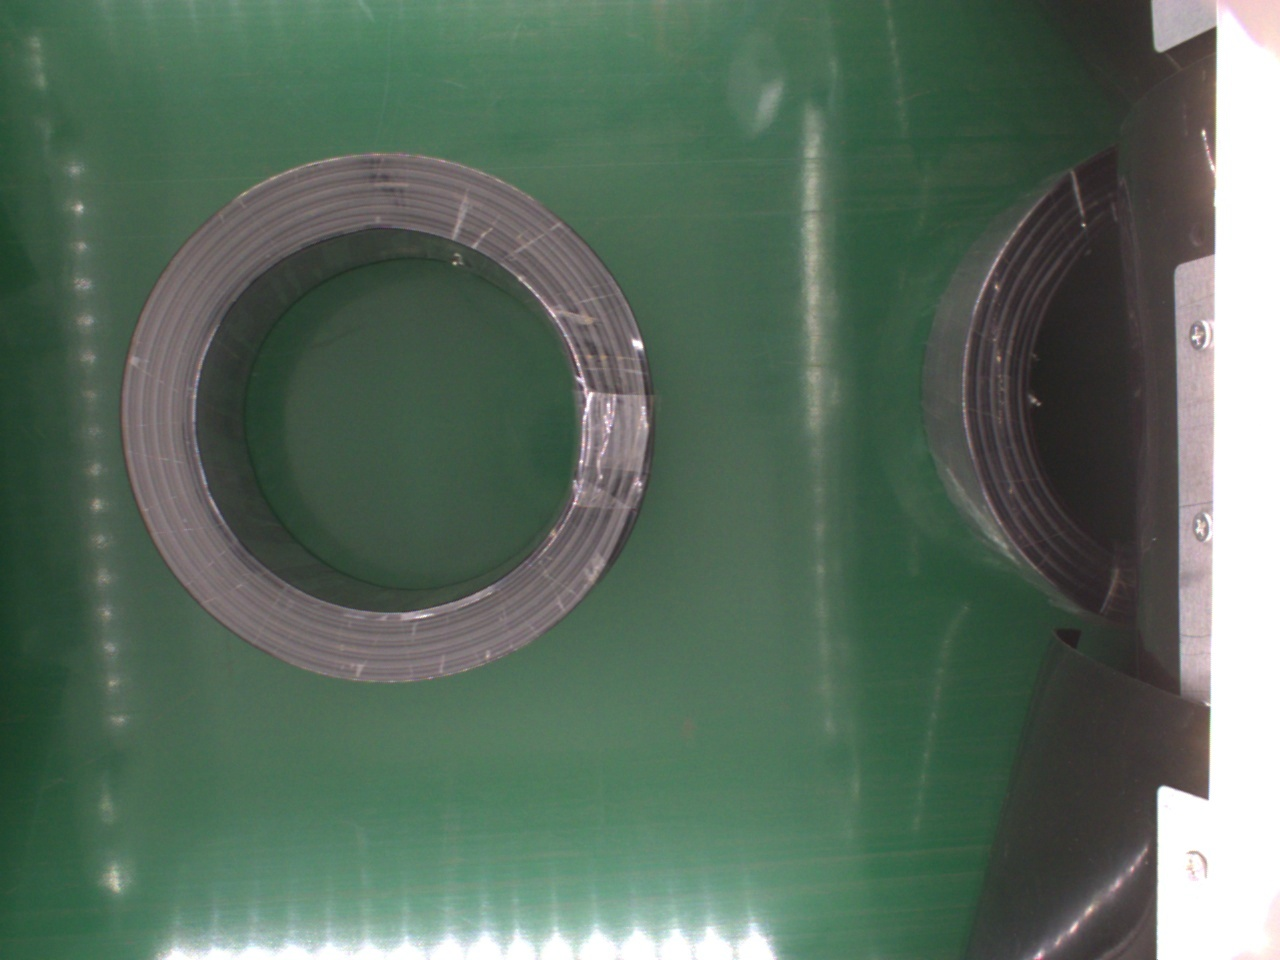black: (120, 152, 656, 686), (924, 140, 1127, 620)
